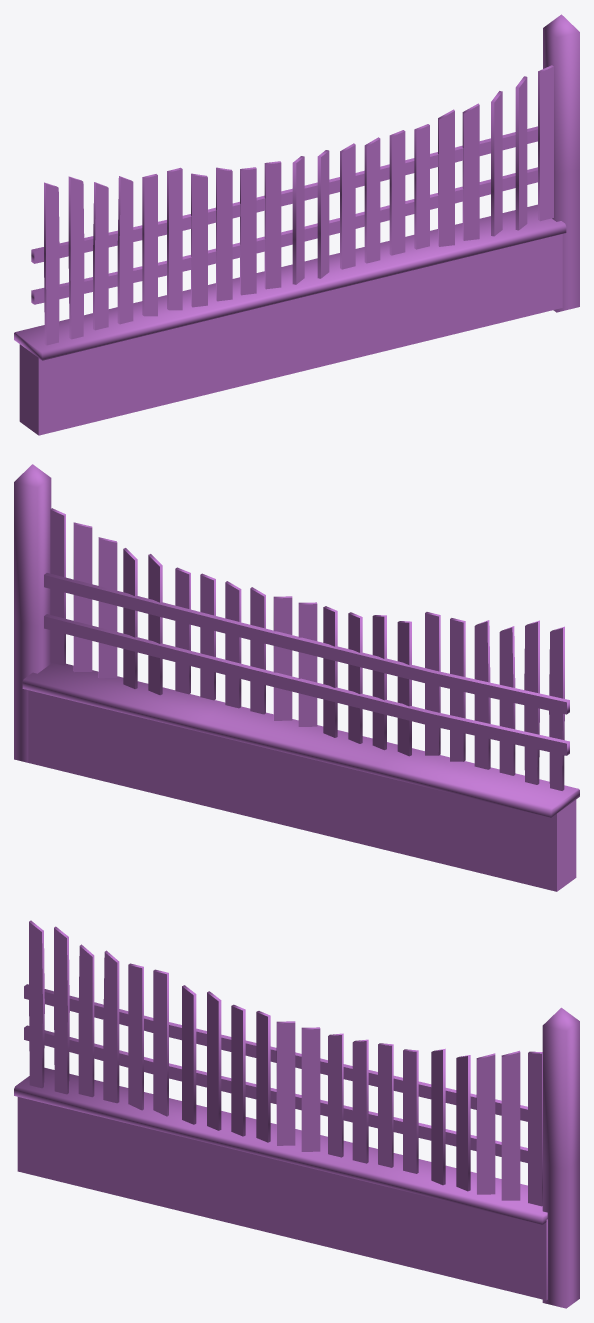
The model's file is Struct_Fence1_Mid_C.fbx.
3 views of the same model, one above another, from view 1: azimuth 30°, elevation 25°; view 2: azimuth 150°, elevation 25°; view 3: azimuth 330°, elevation 25° (orthographic).
Visible parts, largest first — view 1: Struct_Fence1_Mid_C_LOD0; view 2: Struct_Fence1_Mid_C_LOD0; view 3: Struct_Fence1_Mid_C_LOD0.
Boxes of the visible parts, left/top/right/bottom form: Struct_Fence1_Mid_C_LOD0: left=14, top=14, right=579, bottom=435; Struct_Fence1_Mid_C_LOD0: left=14, top=464, right=579, bottom=891; Struct_Fence1_Mid_C_LOD0: left=14, top=920, right=579, bottom=1308.
Size of what is drawn, in the model's own units: 6.59 by 3.37 by 0.6.
